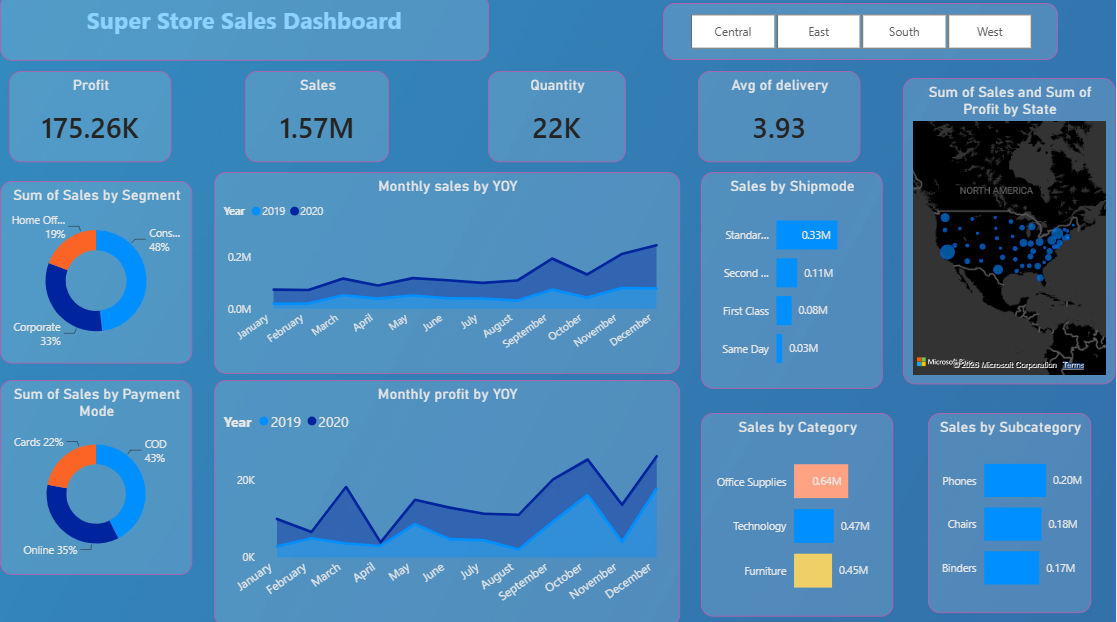

What the dashboard file says about the page in this screenshot:
{"tool":"powerbi","page":{"name":"Dashboard","canvas":[1280,720],"ordinal":0},"visuals":[{"type":"clusteredBarChart","title":" Sales by Category","fields":{"Category":["Sheet1.Category"],"Y":["Sum(Sheet1.Sales)"]},"box":[808.1,477,218.9,232.4],"z":0},{"type":"clusteredBarChart","title":" Sales by Subcategory","fields":{"Category":["Sheet1.Sub-Category"],"Y":["Sum(Sheet1.Sales)"]},"box":[1066.2,477,186.5,228.4],"z":1000},{"type":"clusteredBarChart","title":" Sales by Shipmode","fields":{"Category":["Sheet1.Ship Mode"],"Y":["Sum(Sheet1.Sales)"]},"box":[808.1,202.7,206.8,247.3],"z":2000},{"type":"stackedAreaChart","title":"Monthly sales by YOY","fields":{"Y":["Sum(Sheet1.Sales)"],"Category":["Sheet1.Order Date.Variation.Date Hierarchy.Month"],"Series":["Sheet1.Order Date.Variation.Date Hierarchy.Year"]},"box":[252.7,202.7,531.1,229.7],"z":3000},{"type":"stackedAreaChart","title":"Monthly profit by YOY","fields":{"Category":["Sheet1.Order Date.Variation.Date Hierarchy.Month"],"Series":["Sheet1.Order Date.Variation.Date Hierarchy.Year"],"Y":["Sum(Sheet1.Profit)"]},"box":[252.7,439.2,531.1,281.1],"z":4000},{"type":"map","fields":{"Category":["Sheet1.State"],"Size":["Sum(Sheet1.Sales)"]},"box":[1037.8,95.9,241.9,348.6],"z":5000},{"type":"donutChart","fields":{"Category":["Sheet1.Segment"],"Y":["Sum(Sheet1.Sales)"]},"box":[9.5,213.5,218.9,208.1],"z":6000},{"type":"donutChart","fields":{"Category":["Sheet1.Payment Mode"],"Y":["Sum(Sheet1.Sales)"]},"box":[9.5,439.2,218.9,221.6],"z":7000},{"type":"slicer","fields":{"Values":["Sheet1.Region"]},"box":[764.9,10.8,450,64.9],"z":8000},{"type":"textbox","box":[9.5,0,556.8,75.7],"z":9000},{"type":"cardVisual","title":"Profit ","fields":{"Data":["Sum(Superstore Sale.Profit)"]},"box":[19.3,87.4,185.1,104.1],"z":13001},{"type":"cardVisual","title":"Sales ","fields":{"Data":["Sum(Superstore Sale.Sales)"]},"box":[287.9,87.4,164.5,104.1],"z":13002},{"type":"cardVisual","title":"Quantity","fields":{"Data":["Sum(Superstore Sale.Quantity)"]},"box":[565.5,87.4,156.8,104.1],"z":13003},{"type":"cardVisual","title":"Avg of delivery","fields":{"Data":["Avg(Superstore Sale.AvgDelivery)"]},"box":[804.5,87.4,185.1,104.1],"z":13004}]}

Visuals, with their boxes in screenshot pixels (x1, y1, x2, y2), scaled from the page's 1280x720 canvas onto the 1117x622 screenshot:
" Sales by Category" clusteredBarChart: x1=705 y1=412 x2=896 y2=613
" Sales by Subcategory" clusteredBarChart: x1=930 y1=412 x2=1093 y2=609
" Sales by Shipmode" clusteredBarChart: x1=705 y1=175 x2=886 y2=389
"Monthly sales by YOY" stackedAreaChart: x1=221 y1=175 x2=684 y2=374
"Monthly profit by YOY" stackedAreaChart: x1=221 y1=379 x2=684 y2=621
map - Sheet1.State x Sum(Sheet1.Sales): x1=906 y1=83 x2=1116 y2=384
donutChart - Sheet1.Segment x Sum(Sheet1.Sales): x1=8 y1=184 x2=199 y2=364
donutChart - Sheet1.Payment Mode x Sum(Sheet1.Sales): x1=8 y1=379 x2=199 y2=571
slicer - Sheet1.Region: x1=667 y1=9 x2=1060 y2=65
textbox: x1=8 y1=0 x2=494 y2=65
"Profit " cardVisual: x1=17 y1=76 x2=178 y2=165
"Sales " cardVisual: x1=251 y1=76 x2=395 y2=165
"Quantity" cardVisual: x1=493 y1=76 x2=630 y2=165
"Avg of delivery" cardVisual: x1=702 y1=76 x2=864 y2=165
